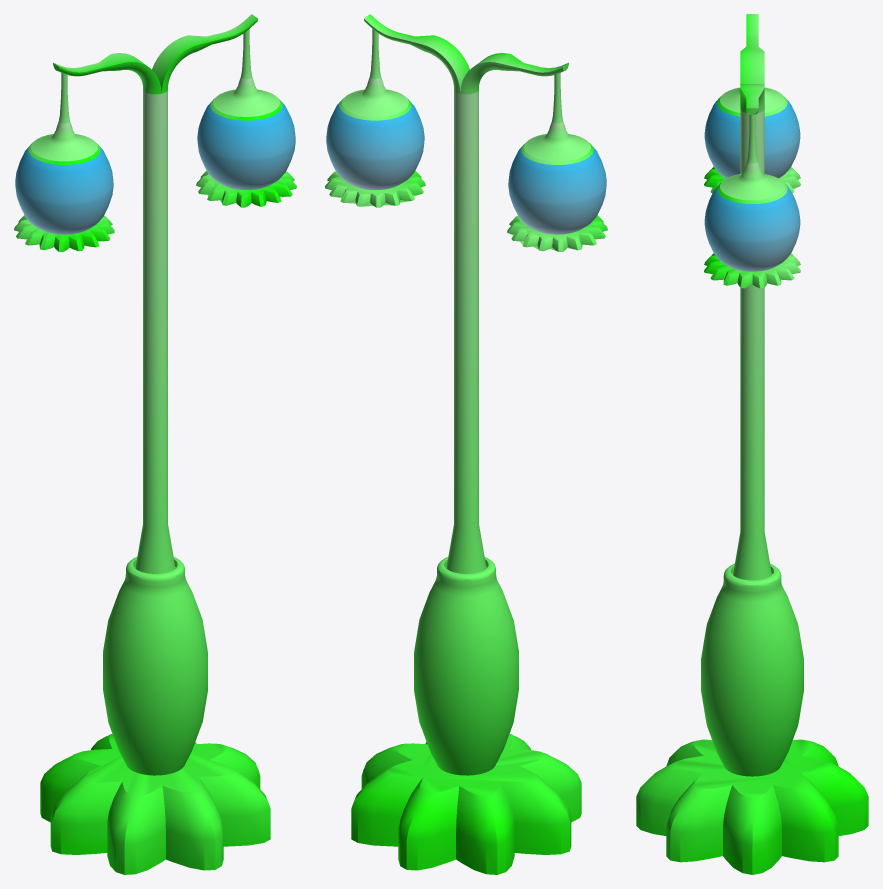
File: streetlight_001.fbx
3 renders of one model, left to right at view 1: azimuth 30°, elevation 25°; view 2: azimuth 150°, elevation 25°; view 3: azimuth 270°, elevation 25°, orthographic. The views are drawn at different scales.
Parts seen in each view (by area): view 1: Cylinder.009; view 2: Cylinder.009; view 3: Cylinder.009.
Boxes of the visible parts, x1=… form: Cylinder.009: x1=14, y1=14, x2=296, y2=874; Cylinder.009: x1=325, y1=14, x2=607, y2=874; Cylinder.009: x1=636, y1=14, x2=868, y2=874.
Size of the model in its own units: 86.59 by 242 by 66.69.
2 materials, 2 textured.
